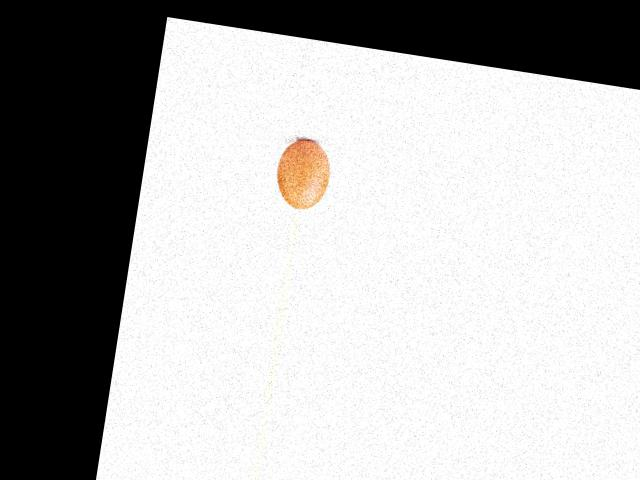egg: (272, 135, 333, 212)
